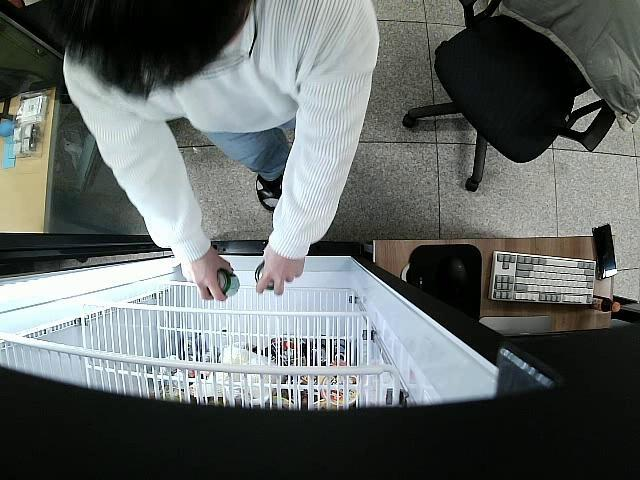12_chilsungCider: (208, 268, 240, 298), (252, 264, 276, 292)
